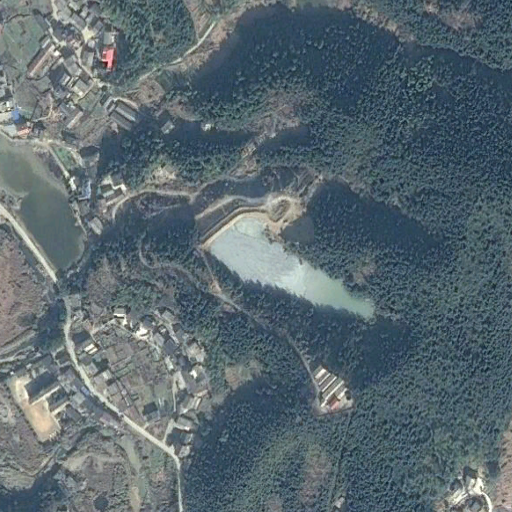tp: (192, 197, 374, 324)
